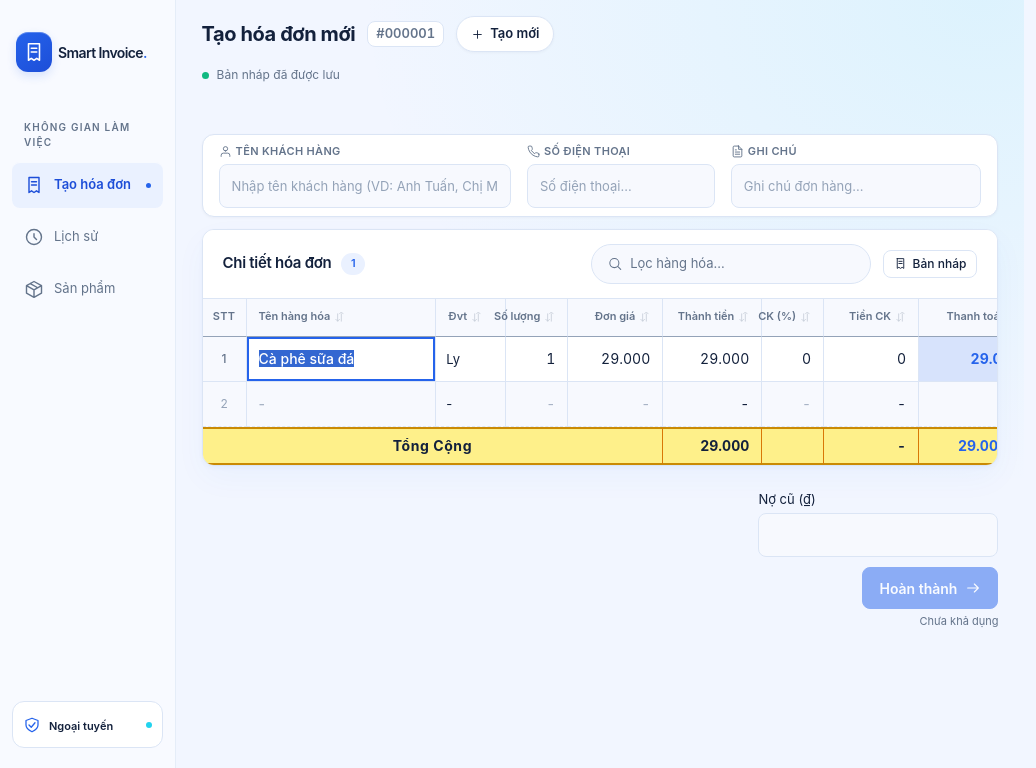
Invoice spreadsheet › rejects invalid quantity 1.5 without saving
The image size is (1036, 768).
expect the text "#000001" is shown: met, box x1=367 y1=21 x2=444 y2=47
Replace the text in the number field named "Số lượng dòng 1" with "1.5": (537, 358) x1=506 y1=336 x2=567 y2=380
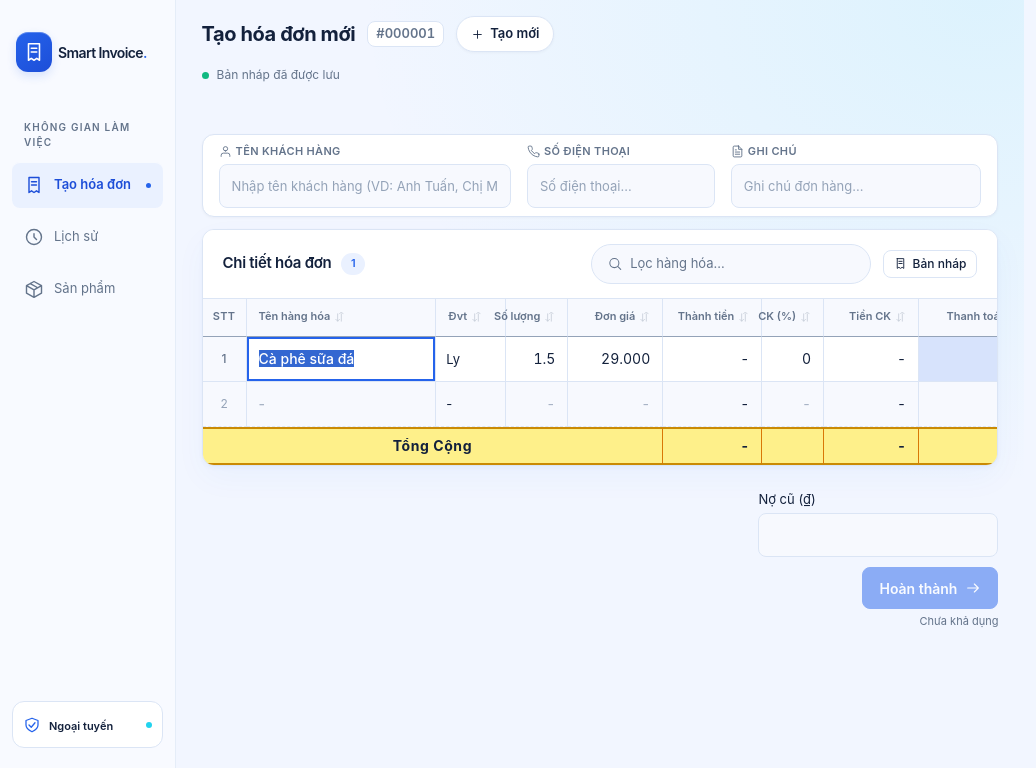
Leave the number field named "Số lượng dòng 1", box x1=506 y1=336 x2=567 y2=380
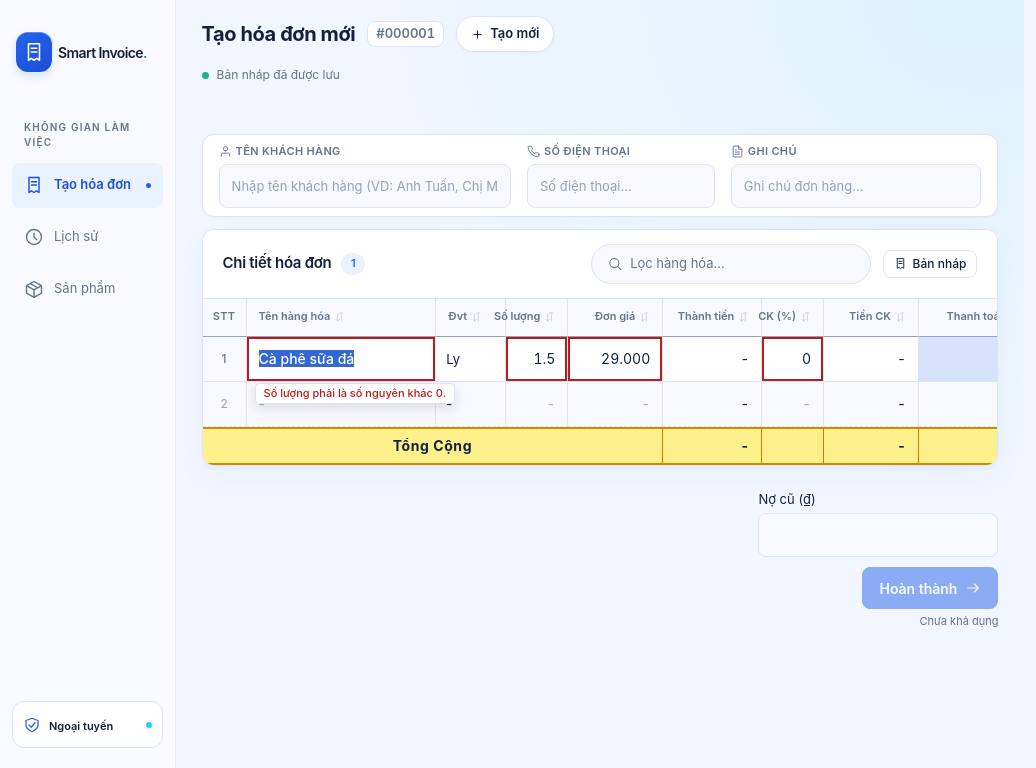
expect the message "Số lượng phải là số nguyên khác 0." is shown: met, box x1=255 y1=382 x2=455 y2=404
